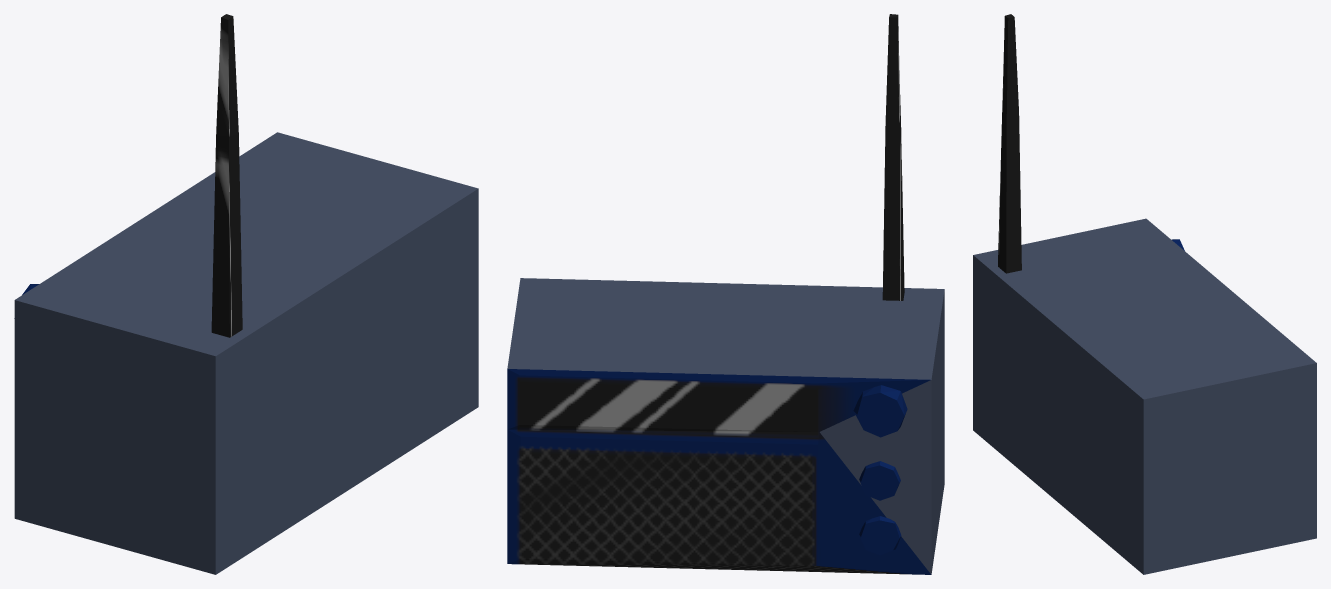
File: radio.glb
3 renders of one model, left to right at view 1: azimuth 30°, elevation 25°; view 2: azimuth 150°, elevation 25°; view 3: azimuth 270°, elevation 25°, orthographic. The views are drawn at different scales.
Parts seen in each view (by area): view 1: Radio; view 2: Radio; view 3: Radio.
Part boxes in pixels (bbox=[...]): Radio: bbox=[14, 14, 478, 574]; Radio: bbox=[507, 14, 944, 574]; Radio: bbox=[973, 14, 1316, 574].
Bounding box in the file's own units: 1.11 × 1.22 × 0.8912.
Materials: 1 (1 with a texture image).
